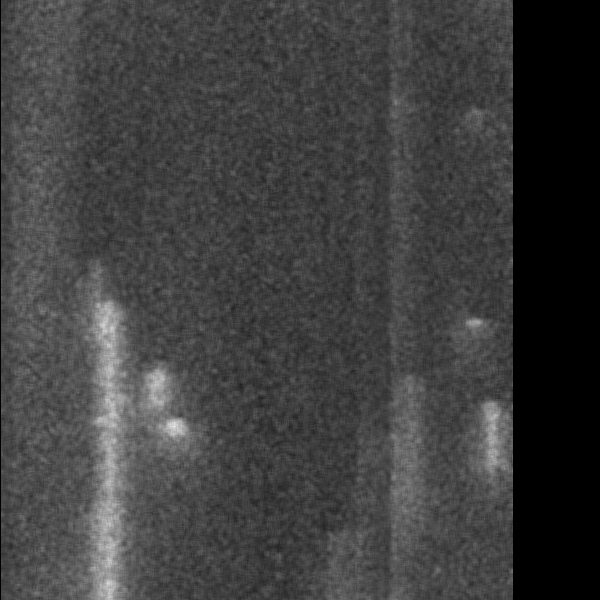spark: (473, 392, 508, 594), (136, 416, 200, 466), (458, 310, 489, 347)
